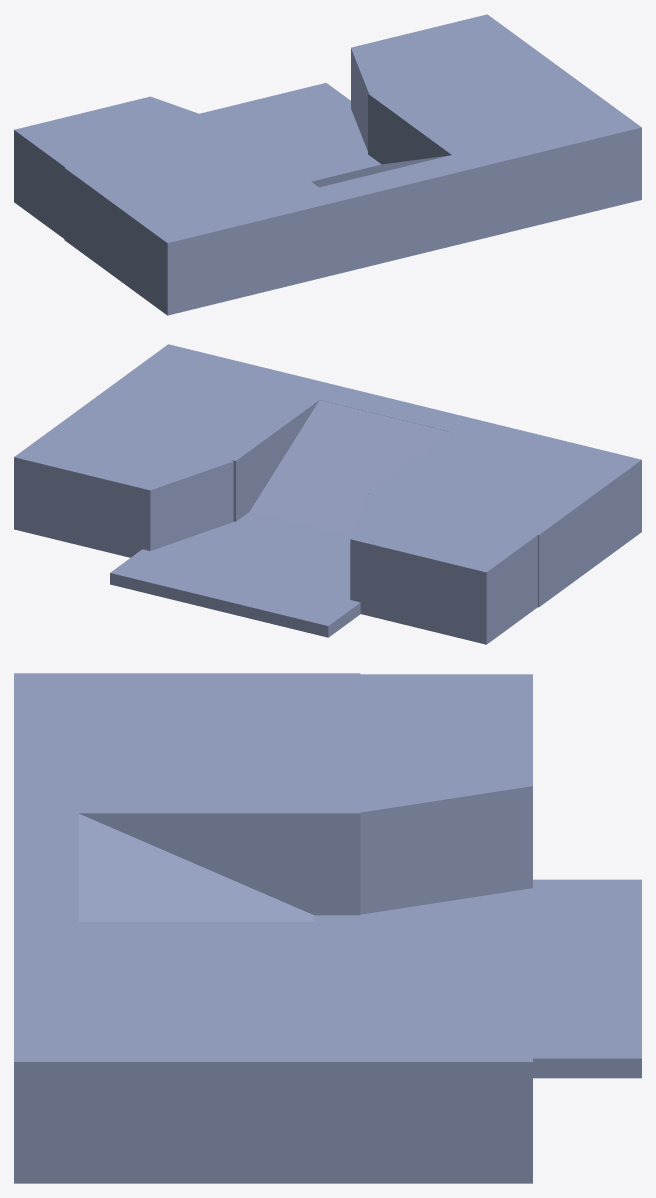
File: HouseC_FrontPorch_collision.fbx
The picture shows the model from 3 angles, top to bottom: view 1: azimuth 30°, elevation 25°; view 2: azimuth 150°, elevation 25°; view 3: azimuth 270°, elevation 25°; orthographic projection. The views are drawn at different scales.
Visible parts, largest first — view 1: HouseC_FrontPorch_collision; view 2: HouseC_FrontPorch_collision; view 3: HouseC_FrontPorch_collision.
Boxes of the visible parts, <box> form: HouseC_FrontPorch_collision: <box>14,14,641,315</box>; HouseC_FrontPorch_collision: <box>14,344,641,644</box>; HouseC_FrontPorch_collision: <box>14,673,641,1183</box>.
Bounding box in the file's own units: 802 × 168 × 548.
